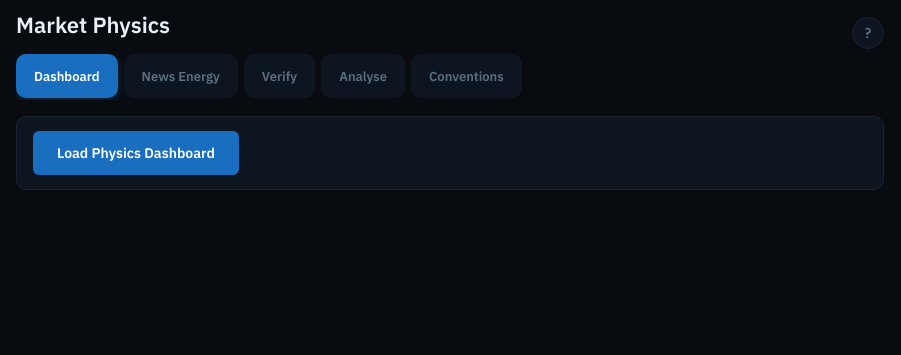
Physics dashboard tab async data › shows an error state on failure and refetches on retry
Click the button "Load Physics Dashboard": [136, 153] box [33,131,239,175]
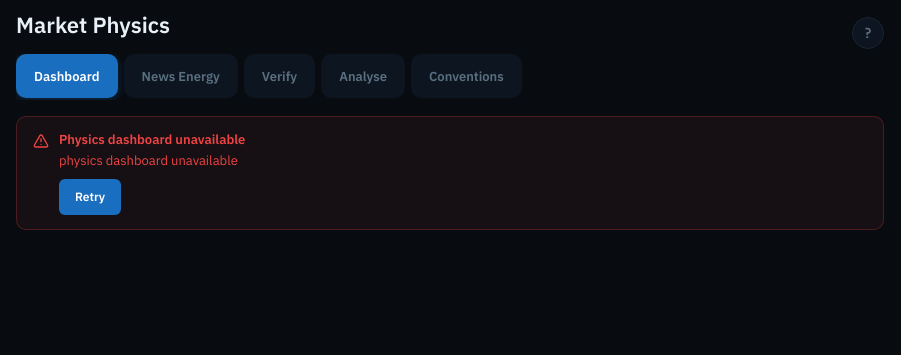
Expected: the text "physics dashboard unavailable" is shown, [59,152,238,169]
Click the button "Retry": [90, 197] box [59,179,121,215]
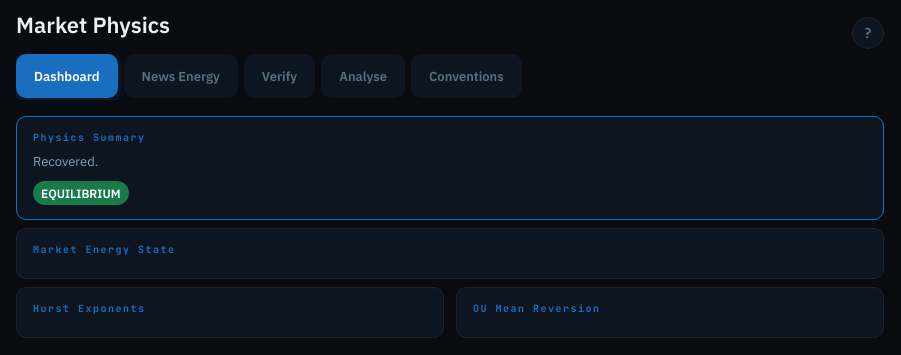
Expected: the text "Recovered." is shown, [33,153,98,170]
